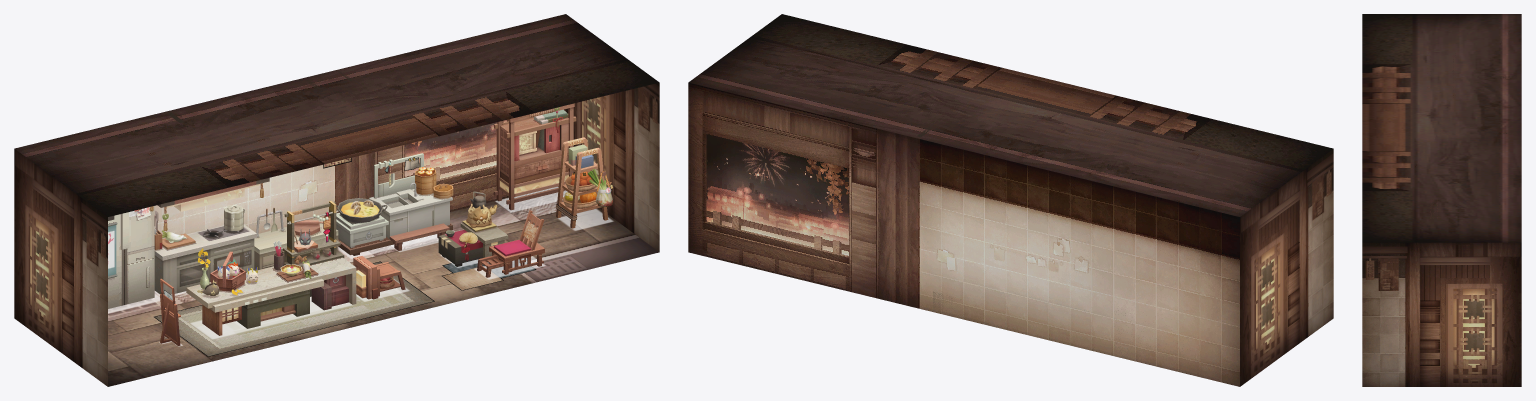
File: YuKitchen.glb
3 views of the same model, side by side, from view 1: azimuth 30°, elevation 25°; view 2: azimuth 150°, elevation 25°; view 3: azimuth 270°, elevation 25° (orthographic). The views are drawn at different scales.
Parts seen in each view (by area): view 1: ROOM_room, ROOM_floor, furni_YuKitchen_paopaoTable_01, furni_YuKitchen_pastryTable_01, furni_YuKitchen_largeCarpet_01, furni_YuKitchen_radishTable_01, furni_YuKitchen_LampCabinet_02, furni_YuKitchen_paopaoTable_02, furni_YuKitchen_fridge_01, furni_YuKitchen_teaTable_02, furni_YuKitchen_foodShelf_01, furni_YuKitchen_deckChair_02 (+18 smaller); view 2: ROOM_room, ROOM_LDoor, furni_YuKitchen_teaCabinet_01; view 3: ROOM_room, ROOM_RDoor.
Boxes of the visible parts, x1,y1,x2,y2 form: ROOM_room: (14, 14, 659, 386); ROOM_floor: (108, 187, 659, 386); furni_YuKitchen_paopaoTable_01: (186, 214, 356, 335); furni_YuKitchen_pastryTable_01: (336, 153, 453, 255); furni_YuKitchen_largeCarpet_01: (154, 261, 434, 356); furni_YuKitchen_radishTable_01: (154, 205, 256, 294); furni_YuKitchen_LampCabinet_02: (494, 103, 576, 204); furni_YuKitchen_paopaoTable_02: (201, 201, 344, 324); furni_YuKitchen_fridge_01: (108, 206, 154, 308); furni_YuKitchen_teaTable_02: (438, 191, 508, 264); furni_YuKitchen_foodShelf_01: (556, 137, 613, 228); furni_YuKitchen_deckChair_02: (479, 210, 544, 274); ROOM_room: (688, 14, 1333, 386); ROOM_LDoor: (1300, 251, 1319, 341); furni_YuKitchen_teaCabinet_01: (1079, 127, 1204, 166); ROOM_room: (1362, 14, 1521, 386); ROOM_RDoor: (1385, 321, 1418, 386).
Bounding box in the file's own units: 7.48 × 2.2 × 2.2.
7 materials, 7 textured.
